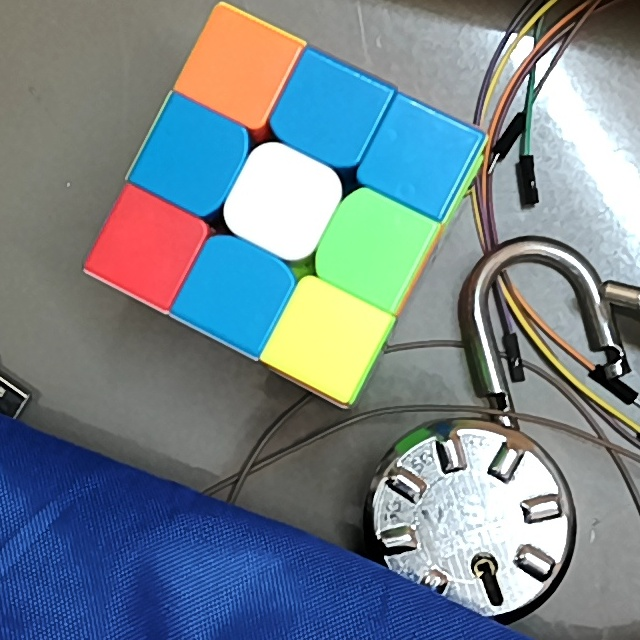tile: (250, 164, 319, 234), (201, 257, 272, 325), (293, 75, 361, 143), (162, 123, 230, 190), (341, 212, 407, 281), (293, 302, 362, 368), (206, 34, 272, 101), (117, 212, 181, 277), (385, 125, 449, 188)
